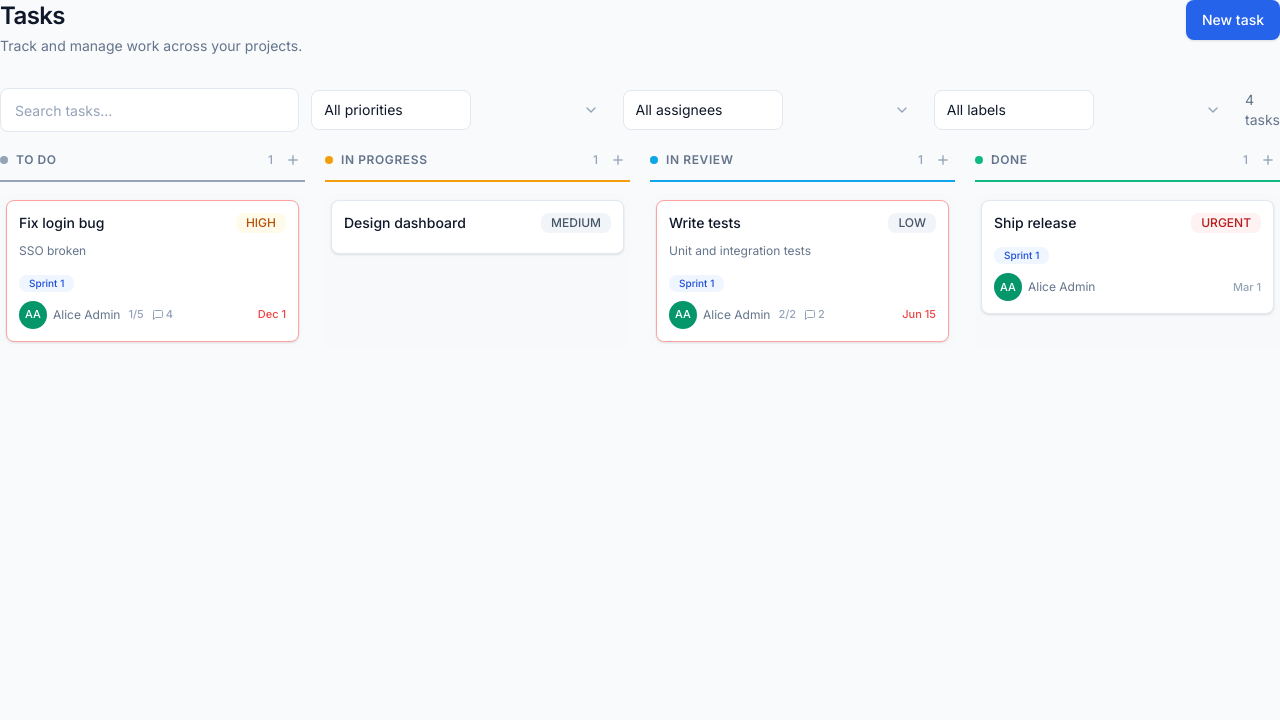
Test: TasksPage › task creation › opens create modal on New task click
Expected: the heading "Fix login bug" is shown, [19,213,104,232]
Click the button "New task".
click(1233, 20)  # box [1186,0,1279,40]
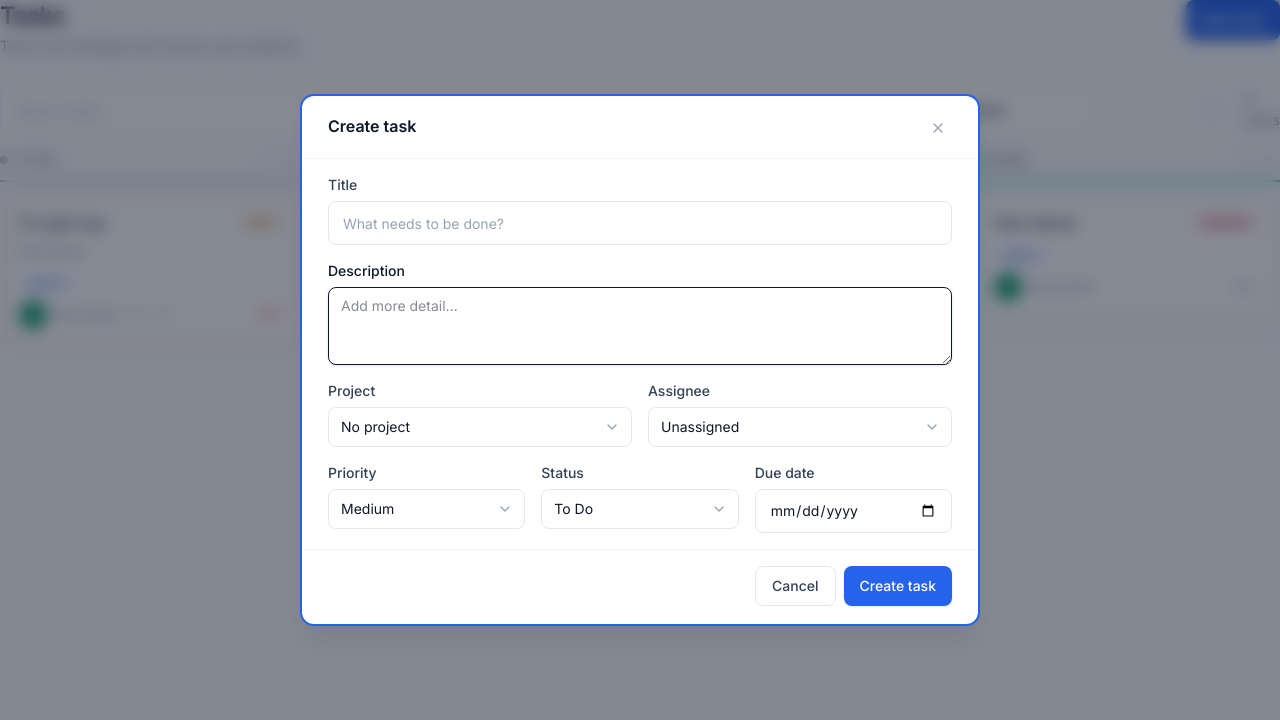
Expected: the dialog is shown, [304,98,976,622]
Expected: the heading "Create task" is shown, [328,114,416,138]
